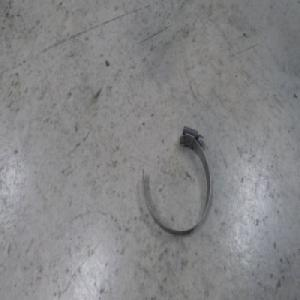AdjustableClamp: (141, 124, 211, 233)
